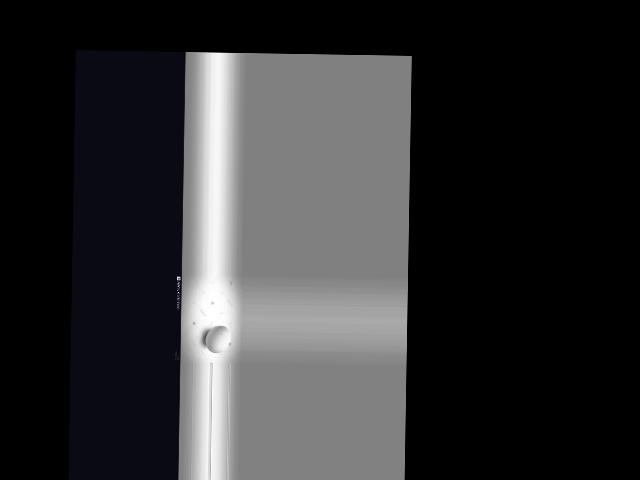egg: (204, 326, 230, 354)
